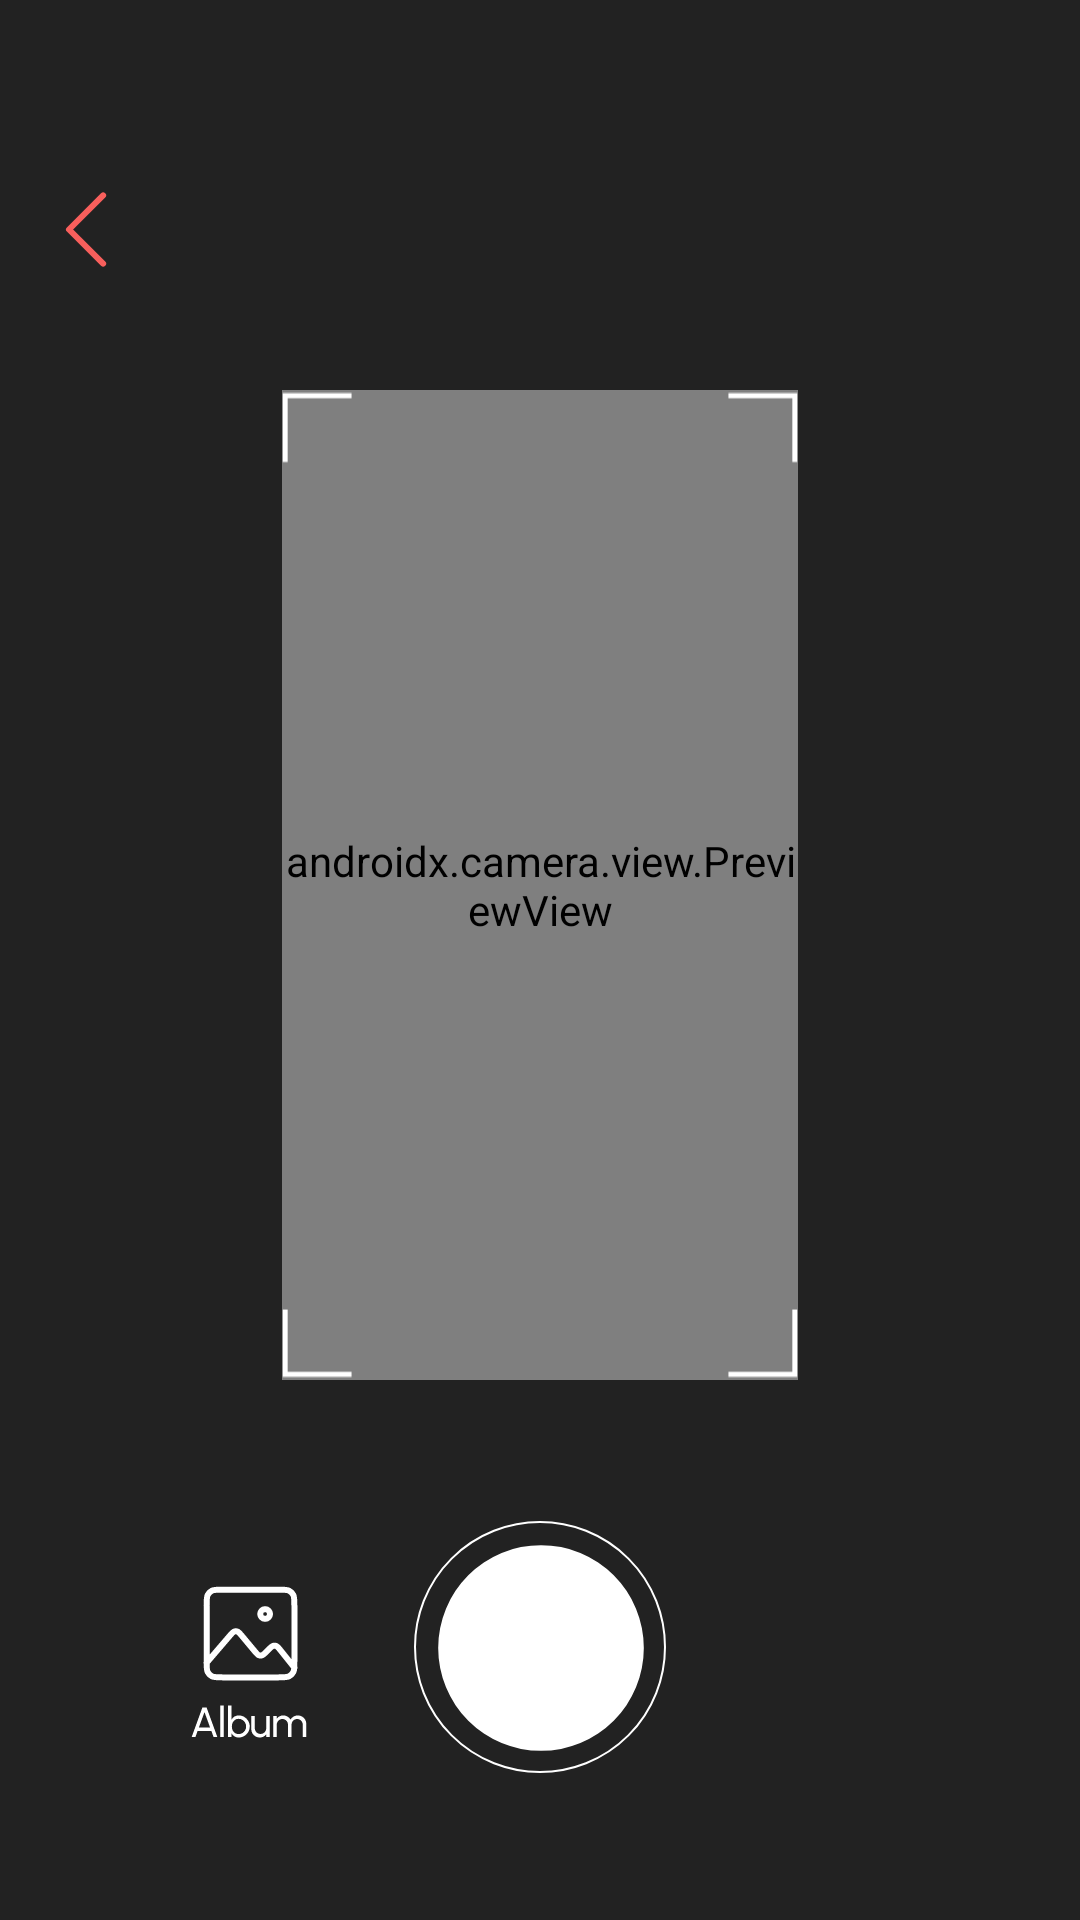

Named icons in this screenshot (1080*1920) and their bounding boxes, (x1, y1, x2, y2):
카메라 뒤로가기 버튼: (65, 192, 107, 267)
카메라 촬영 버튼: (414, 1521, 666, 1773)
